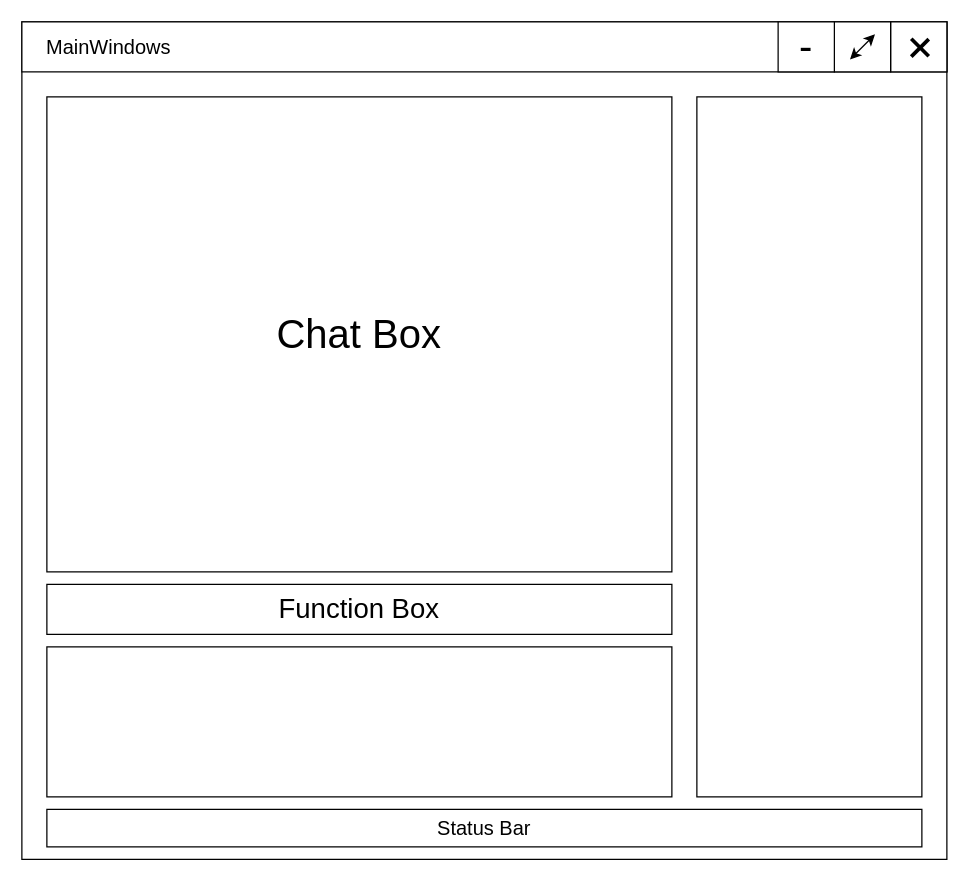
Image size: 969x881. Some labels were removed from this diagram. The shapes that lost their labels are listed below. From the top down, each one's centre as x and y in pixels, then its label:
At point (809, 446): "Online users".
At point (359, 721): "Input Box".
